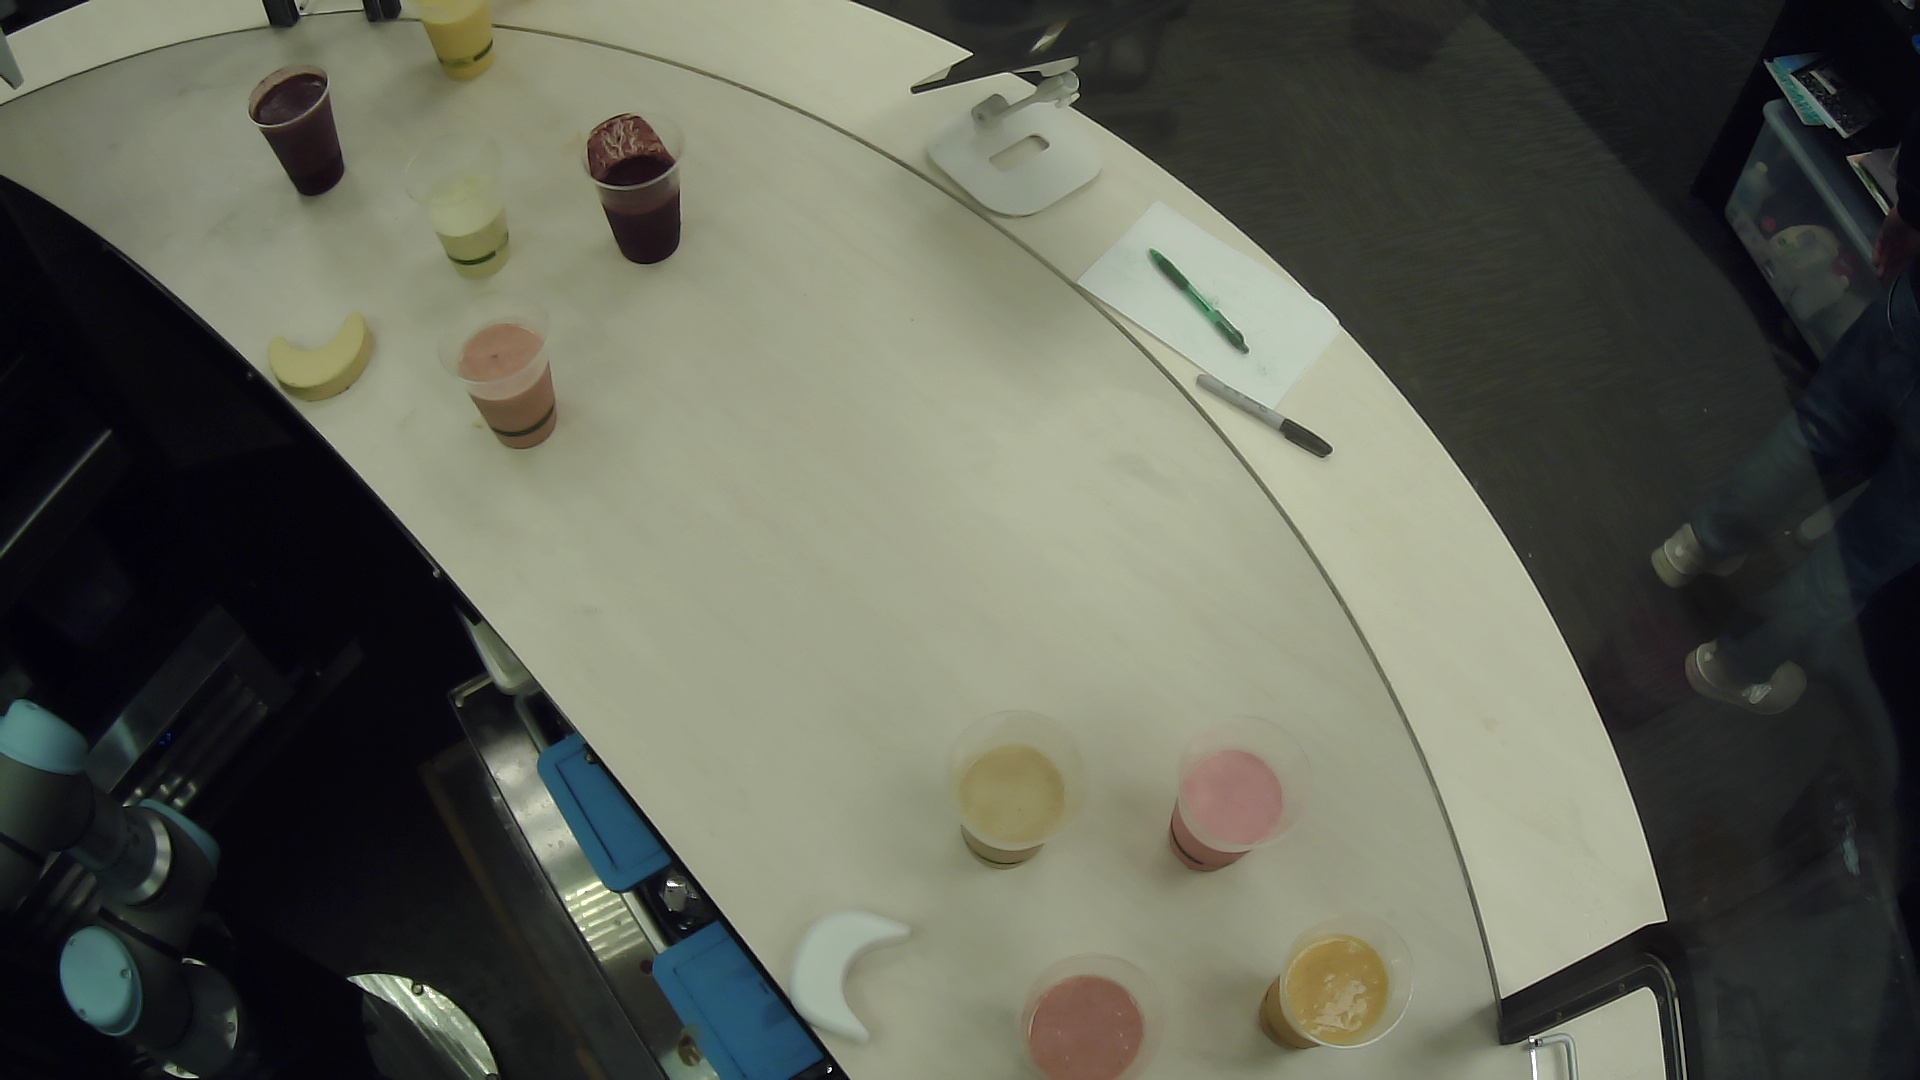Deliver: (750, 897, 935, 1065), (253, 295, 398, 411)
Full_cup: (1240, 905, 1469, 1069), (430, 297, 597, 491), (560, 98, 713, 287), (1005, 923, 1189, 1080), (1163, 705, 1329, 880), (944, 702, 1101, 881), (236, 36, 375, 223), (386, 124, 525, 290), (413, 1, 529, 103)
